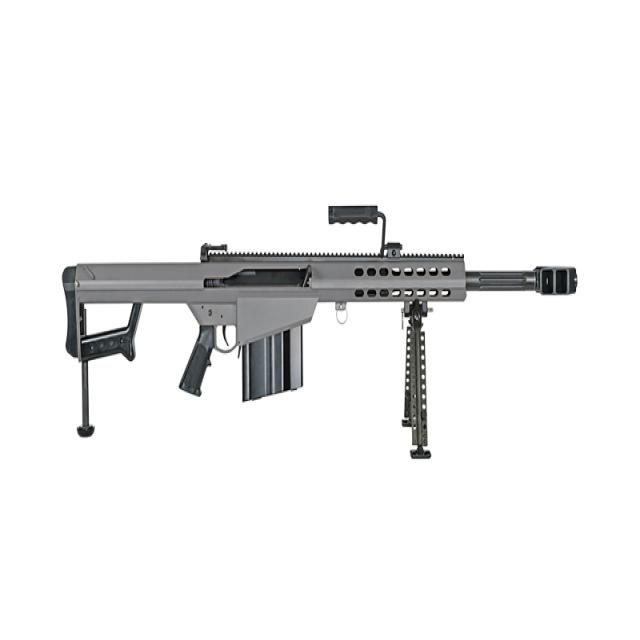Rifle: (62, 207, 578, 439)
